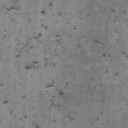oxide scale of temperature system: (16, 2, 128, 128), (0, 82, 10, 105), (94, 110, 104, 121), (5, 4, 18, 11), (110, 9, 126, 14)
